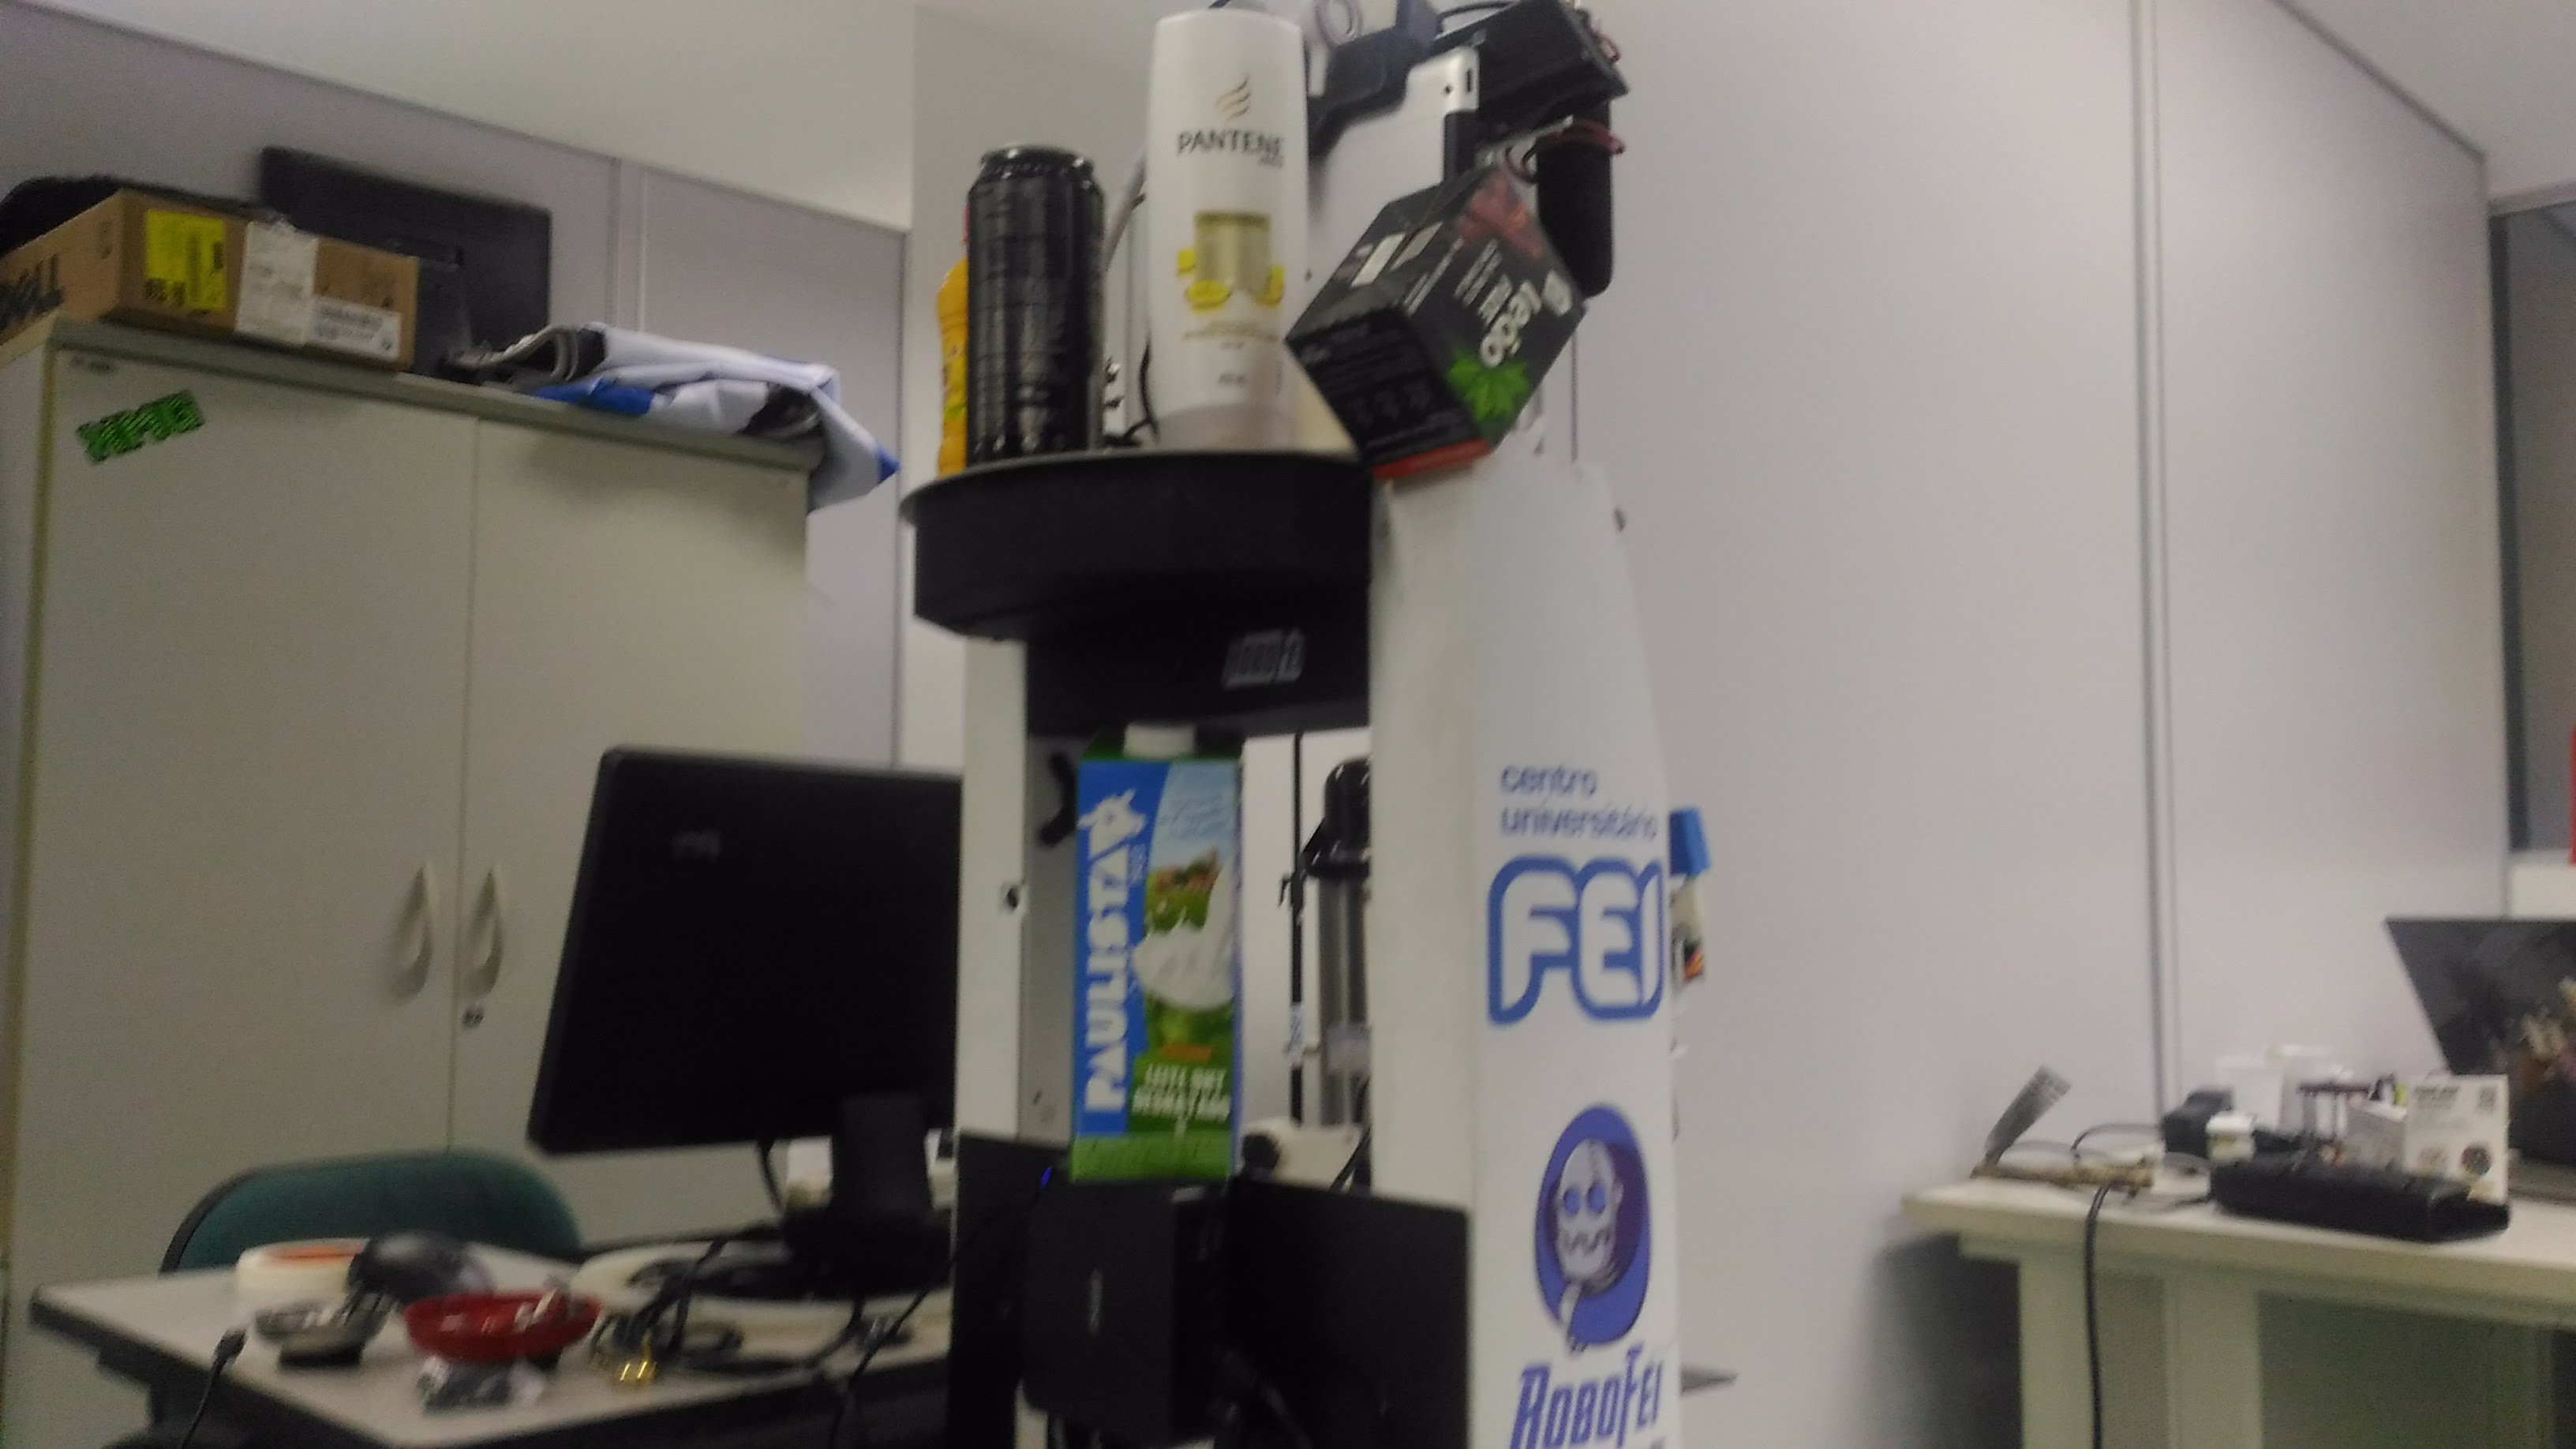milk_bottle: (1072, 717, 1258, 1192)
monster: (968, 140, 1116, 471)
shampoo: (1141, 2, 1304, 455)
tea_box: (1288, 159, 1596, 488)
